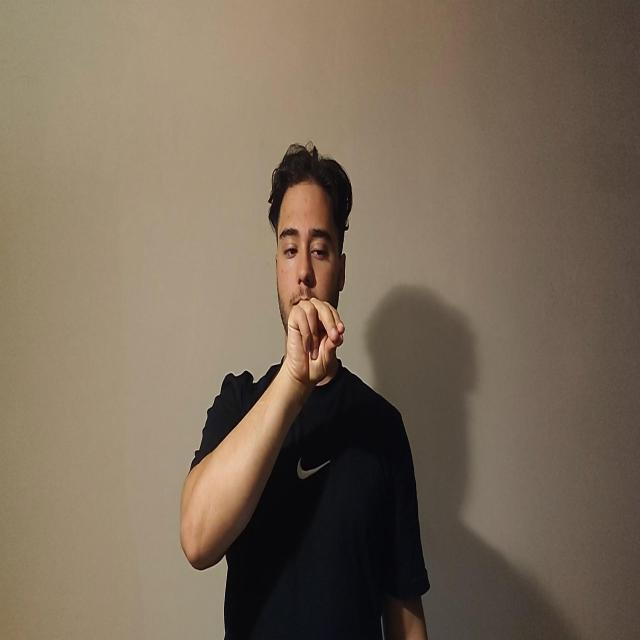no: (285, 296, 345, 388)
